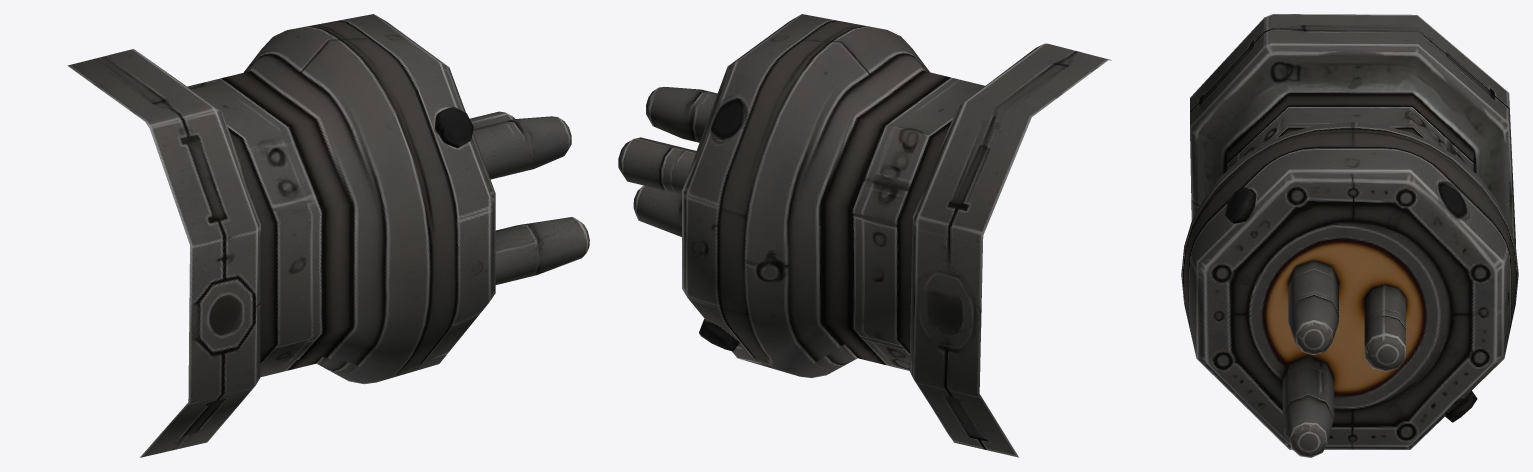
Rendered from cold-iron-v2-electrical-terminal-a.glb.
3 views of the same model, side by side, from view 1: azimuth 30°, elevation 25°; view 2: azimuth 150°, elevation 25°; view 3: azimuth 270°, elevation 25° (orthographic). The views are drawn at different scales.
Parts seen in each view (by area): view 1: tripo_node_80e26d54-8be1-4ecb-a6ec-81bfd9170c44; view 2: tripo_node_80e26d54-8be1-4ecb-a6ec-81bfd9170c44; view 3: tripo_node_80e26d54-8be1-4ecb-a6ec-81bfd9170c44.
Part boxes in pixels (<box>): tripo_node_80e26d54-8be1-4ecb-a6ec-81bfd9170c44: <box>67,14,589,457</box>; tripo_node_80e26d54-8be1-4ecb-a6ec-81bfd9170c44: <box>618,14,1111,457</box>; tripo_node_80e26d54-8be1-4ecb-a6ec-81bfd9170c44: <box>1181,14,1518,457</box>.
Size of the model in its own units: 0.998 by 0.7129 by 0.6895.
Materials: 1 (1 with a texture image).
